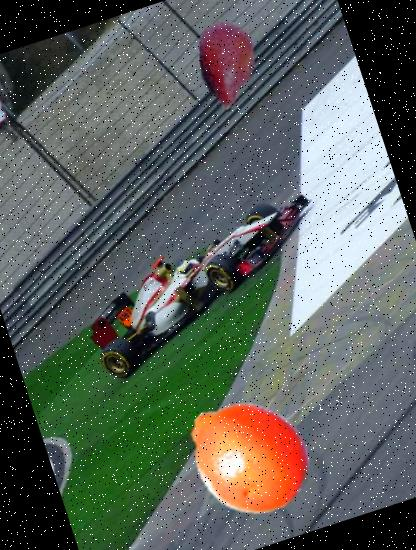Salak: (172, 8, 284, 120)
Tangelo: (169, 375, 327, 533)
